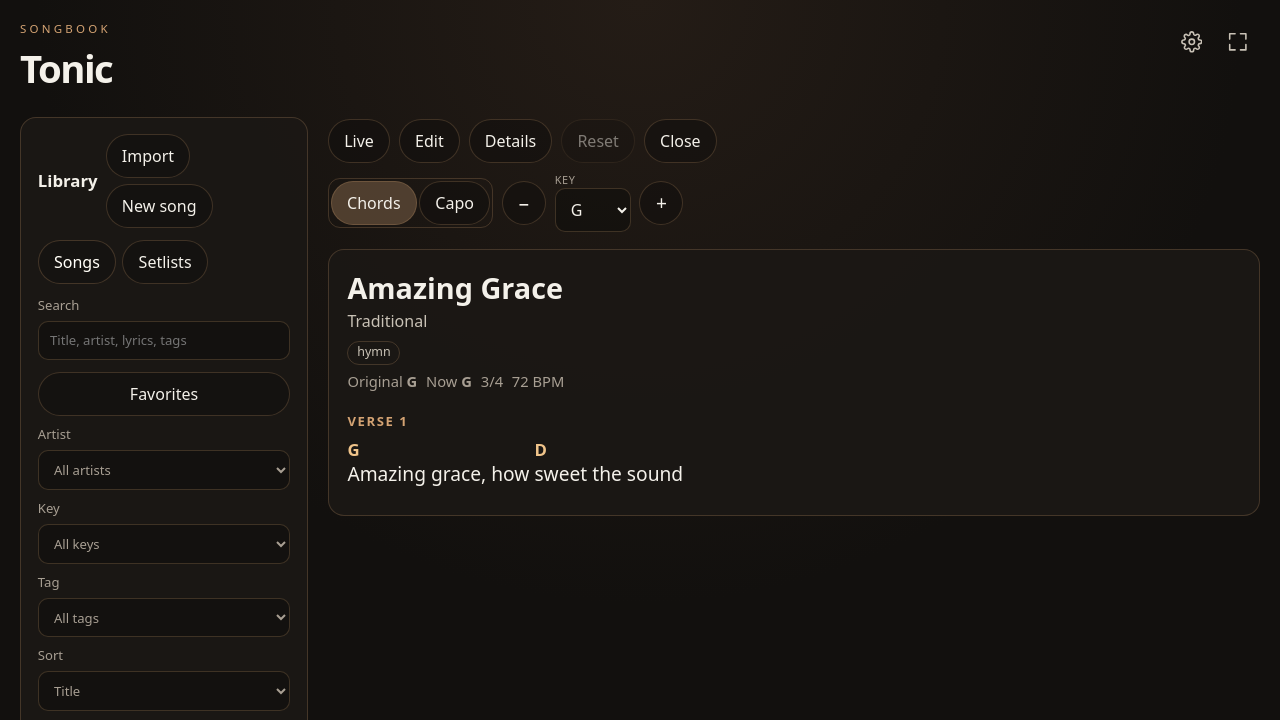
Test: App › enters live mode and returns with escape
Click the button "Live" at (359,141), box 328,119 -> 390,163
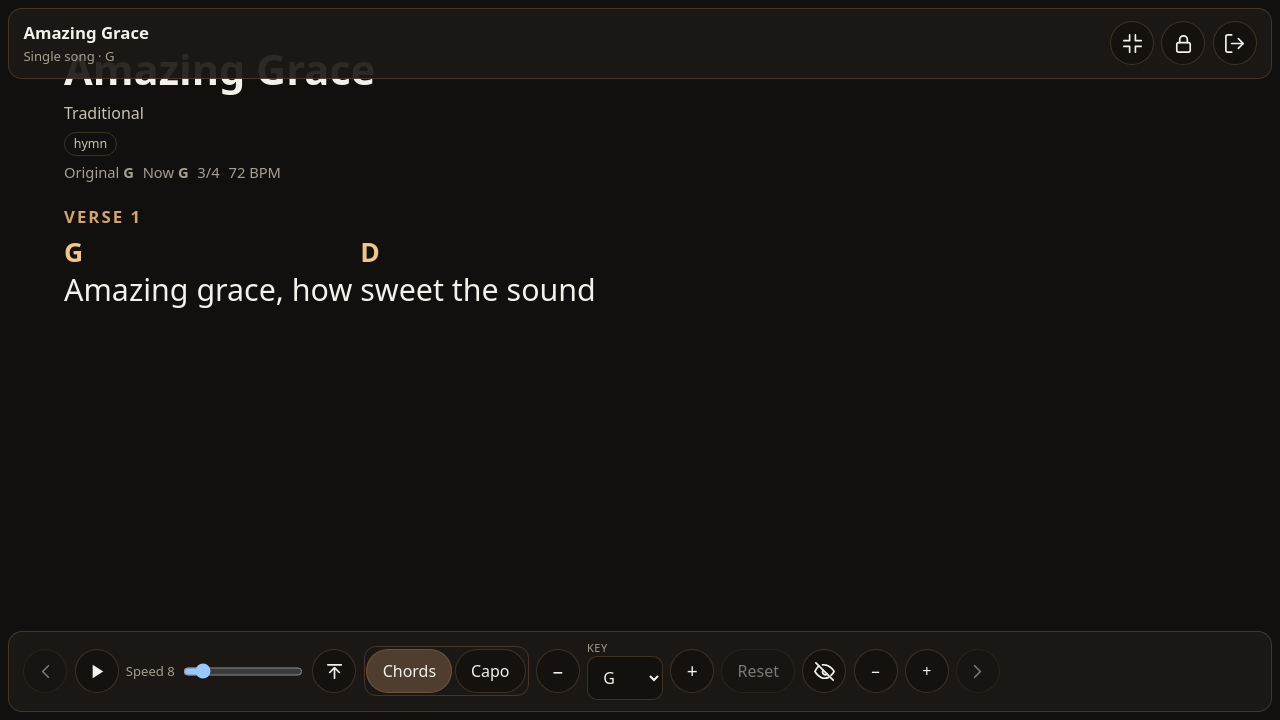
Check: the button named "Exit live" is shown, box 1213,21 -> 1257,65
Check: the button named "Auto-scroll" is shown, box 75,649 -> 119,693
Press Escape
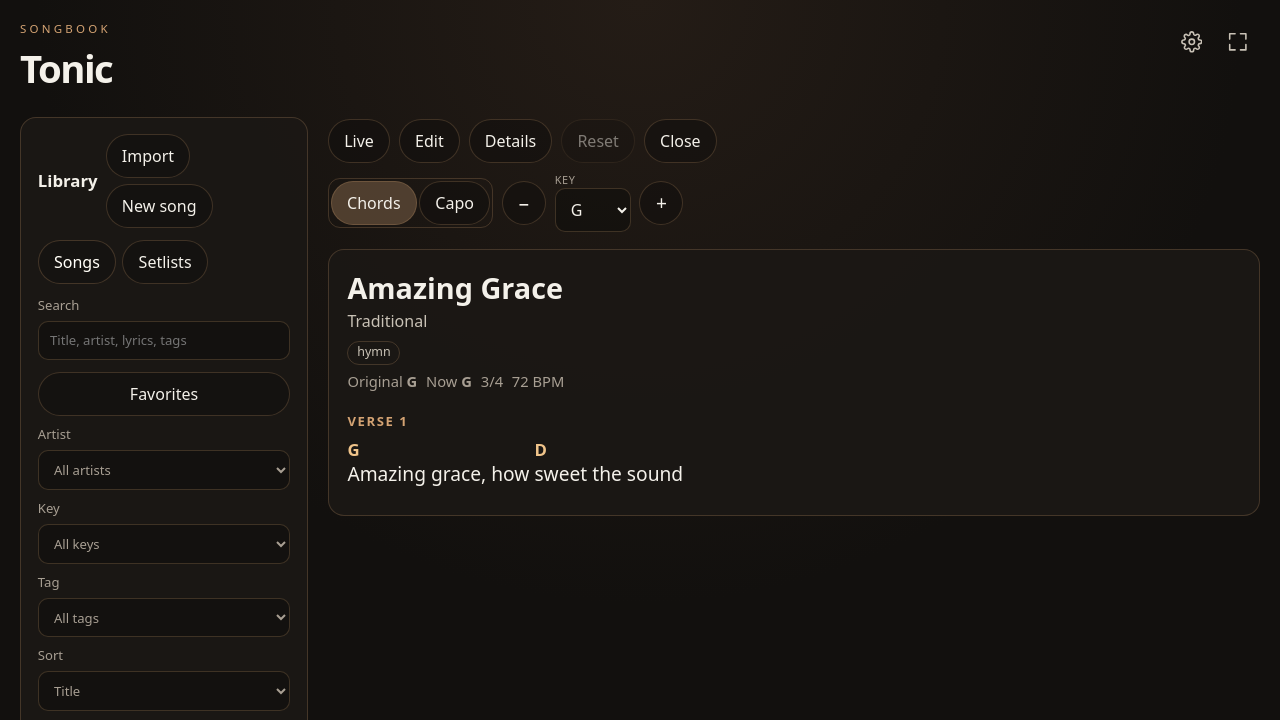
Check: the button "Live" is shown, box 328,119 -> 390,163
